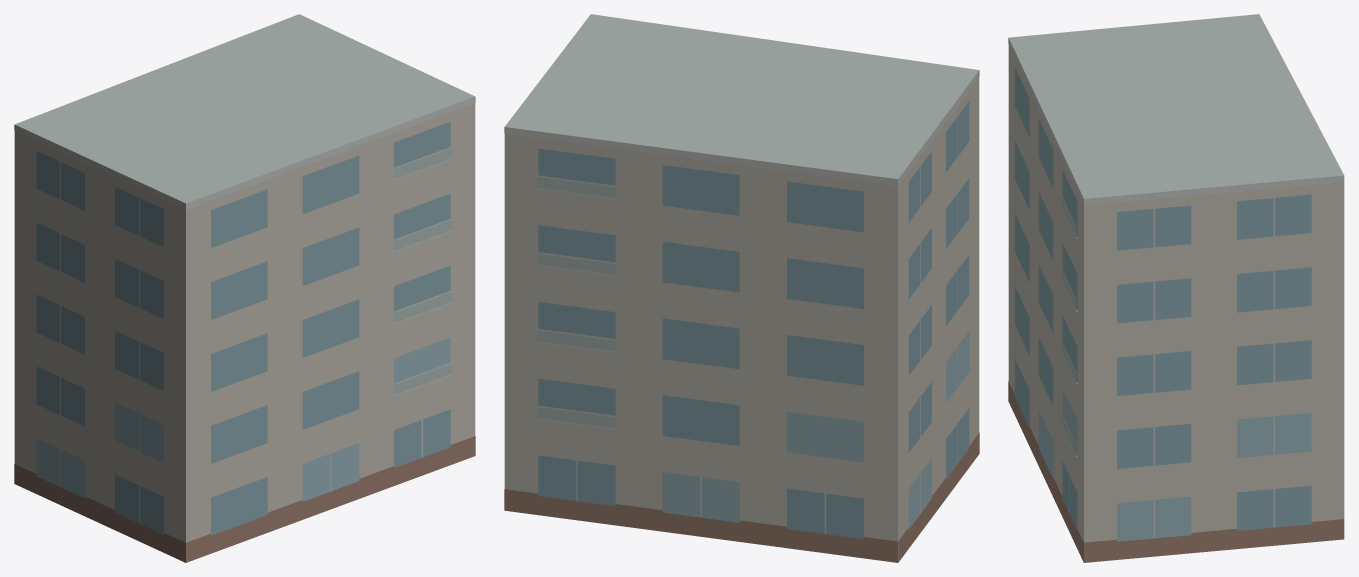
File: survey-upis-32968375.glb
3 views of the same model, side by side, from view 1: azimuth 30°, elevation 25°; view 2: azimuth 150°, elevation 25°; view 3: azimuth 270°, elevation 25° (orthographic). The views are drawn at different scales.
Parts seen in each view (by area): view 1: survey-upis-32968375.tmp; view 2: survey-upis-32968375.tmp; view 3: survey-upis-32968375.tmp.
Boxes of the visible parts, x1,y1,x2,y2 form: survey-upis-32968375.tmp: (14, 14, 475, 562); survey-upis-32968375.tmp: (504, 14, 979, 562); survey-upis-32968375.tmp: (1008, 14, 1344, 562).
Bounding box in the file's own units: 14.84 × 13.6 × 11.38.
